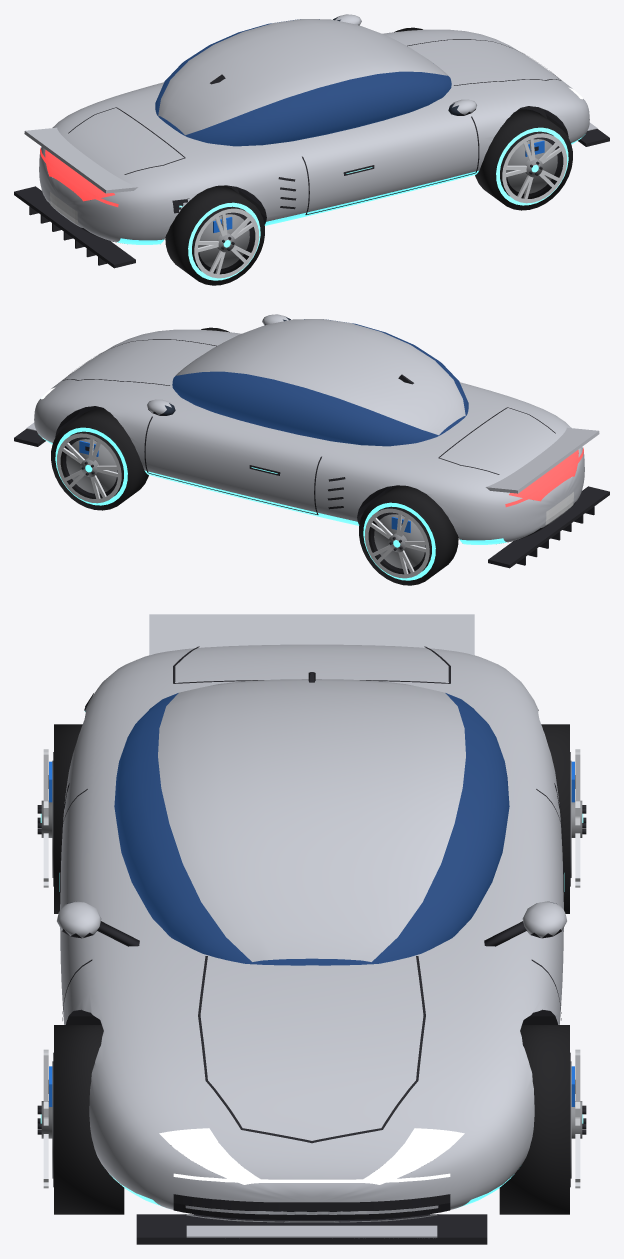
The model's file is city_car.glb.
3 renders of one model, top to bottom at view 1: azimuth 30°, elevation 25°; view 2: azimuth 150°, elevation 25°; view 3: azimuth 270°, elevation 25°, orthographic. The views are drawn at different scales.
Parts seen in each view (by area): view 1: Futuristic_Car_Body, Futuristic_Car_Canopy, Futuristic_Car_Wheel_RL, Futuristic_Car_Wheel_FL, Futuristic_Car_Details, Futuristic_Car_Decals, Futuristic_Car_Mirrors; view 2: Futuristic_Car_Body, Futuristic_Car_Canopy, Futuristic_Car_Wheel_RR, Futuristic_Car_Wheel_FR, Futuristic_Car_Details, Futuristic_Car_Decals, Futuristic_Car_Mirrors; view 3: Futuristic_Car_Body, Futuristic_Car_Canopy, Futuristic_Car_Details, Futuristic_Car_Wheel_FR, Futuristic_Car_Wheel_FL, Futuristic_Car_Decals, Futuristic_Car_Wheel_RL, Futuristic_Car_Wheel_RR, Futuristic_Car_Mirrors.
Boxes of the visible parts, x1,y1,x2,y2 form: Futuristic_Car_Body: (39, 29, 589, 244); Futuristic_Car_Canopy: (155, 19, 451, 146); Futuristic_Car_Wheel_RL: (165, 185, 264, 285); Futuristic_Car_Wheel_FL: (475, 109, 572, 210); Futuristic_Car_Details: (14, 74, 609, 268); Futuristic_Car_Decals: (40, 39, 589, 224); Futuristic_Car_Mirrors: (333, 14, 476, 115); Futuristic_Car_Body: (34, 329, 584, 544); Futuristic_Car_Canopy: (172, 319, 468, 446); Futuristic_Car_Wheel_RR: (359, 485, 458, 585); Futuristic_Car_Wheel_FR: (51, 409, 148, 510); Futuristic_Car_Details: (14, 374, 609, 568); Futuristic_Car_Decals: (34, 339, 583, 524); Futuristic_Car_Mirrors: (147, 314, 290, 415); Futuristic_Car_Body: (60, 644, 563, 1220); Futuristic_Car_Canopy: (114, 679, 509, 965); Futuristic_Car_Details: (136, 614, 487, 1244); Futuristic_Car_Wheel_FR: (499, 1025, 586, 1214); Futuristic_Car_Wheel_FL: (37, 1025, 124, 1214); Futuristic_Car_Decals: (59, 646, 564, 1222); Futuristic_Car_Wheel_RL: (37, 724, 82, 913); Futuristic_Car_Wheel_RR: (541, 724, 586, 913); Futuristic_Car_Mirrors: (57, 901, 566, 946).
Bounding box in the file's own units: 20.56 × 6.09 × 9.71.
